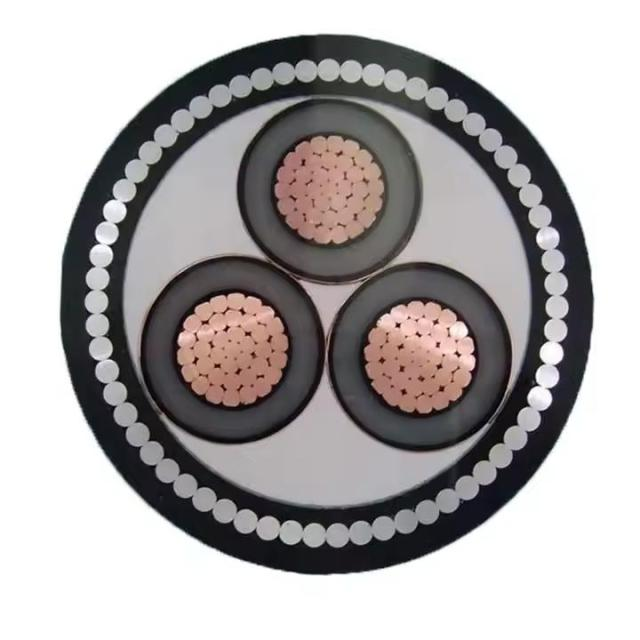wire: (198, 488, 231, 525), (533, 225, 568, 254), (83, 263, 113, 292), (230, 506, 257, 538), (542, 269, 571, 298), (82, 310, 111, 339), (137, 438, 166, 467), (536, 339, 567, 366), (90, 220, 122, 246), (92, 357, 122, 384), (422, 84, 449, 114), (110, 401, 139, 428), (414, 497, 441, 526), (526, 385, 555, 412), (277, 516, 303, 546), (136, 139, 164, 166), (361, 59, 387, 88), (501, 425, 530, 451), (302, 520, 326, 551), (458, 110, 485, 137), (206, 82, 233, 109), (169, 107, 196, 134), (170, 472, 197, 499), (454, 474, 481, 501), (371, 514, 396, 543), (108, 178, 138, 202), (326, 520, 349, 551), (348, 518, 372, 547), (525, 204, 554, 228), (384, 67, 407, 97), (248, 66, 273, 93), (295, 57, 318, 86), (338, 58, 362, 85), (490, 145, 517, 169), (272, 60, 295, 88), (504, 164, 532, 187), (318, 57, 340, 84), (242, 292, 261, 318), (204, 384, 223, 407), (414, 393, 433, 416), (269, 332, 290, 352), (447, 319, 469, 338), (374, 311, 396, 330), (325, 132, 344, 154), (307, 133, 326, 154), (210, 292, 228, 314), (176, 329, 196, 348), (314, 225, 332, 246), (445, 381, 463, 402), (362, 332, 383, 350), (179, 362, 198, 381), (406, 299, 425, 318), (382, 387, 401, 406), (364, 194, 384, 212), (222, 389, 239, 410), (366, 177, 387, 194), (362, 361, 381, 379), (459, 353, 478, 371), (252, 377, 270, 396), (353, 149, 372, 167), (297, 221, 315, 240), (356, 208, 374, 227), (332, 225, 348, 246), (274, 196, 293, 213), (274, 165, 293, 182), (196, 322, 213, 341), (238, 385, 255, 404), (293, 166, 312, 182), (226, 308, 242, 326), (380, 342, 398, 358), (252, 324, 268, 342), (442, 353, 458, 370), (227, 326, 244, 342), (335, 154, 352, 170), (422, 377, 438, 394), (321, 153, 337, 169), (406, 378, 422, 394), (401, 318, 417, 334), (198, 356, 212, 374), (428, 346, 442, 364), (240, 367, 253, 386), (331, 194, 346, 210), (383, 358, 398, 374), (404, 362, 419, 378), (290, 182, 305, 198), (255, 342, 270, 358), (337, 207, 352, 223), (222, 357, 238, 372), (323, 209, 337, 226), (212, 329, 226, 346), (420, 360, 434, 377), (432, 322, 445, 340), (314, 194, 329, 209), (211, 346, 225, 362), (252, 358, 266, 374), (418, 317, 432, 333), (404, 335, 418, 350), (307, 154, 321, 169), (308, 208, 322, 223), (225, 372, 238, 388), (225, 342, 238, 358), (338, 180, 352, 194), (348, 197, 363, 210), (296, 197, 311, 210), (237, 352, 250, 367), (353, 182, 366, 196), (322, 182, 335, 195), (313, 169, 326, 182), (328, 169, 341, 182)
